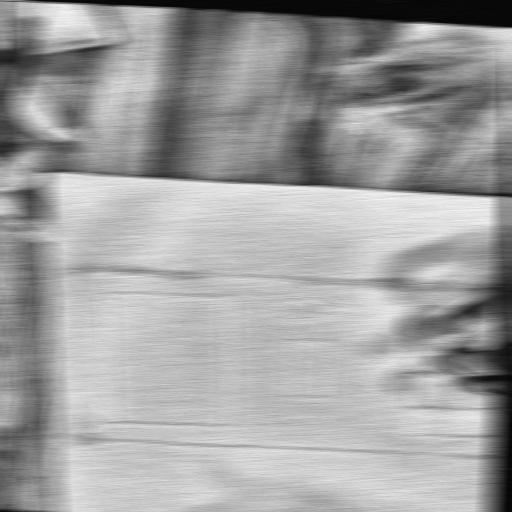door: (52, 260, 506, 463)
top_right: (39, 169, 55, 173)
